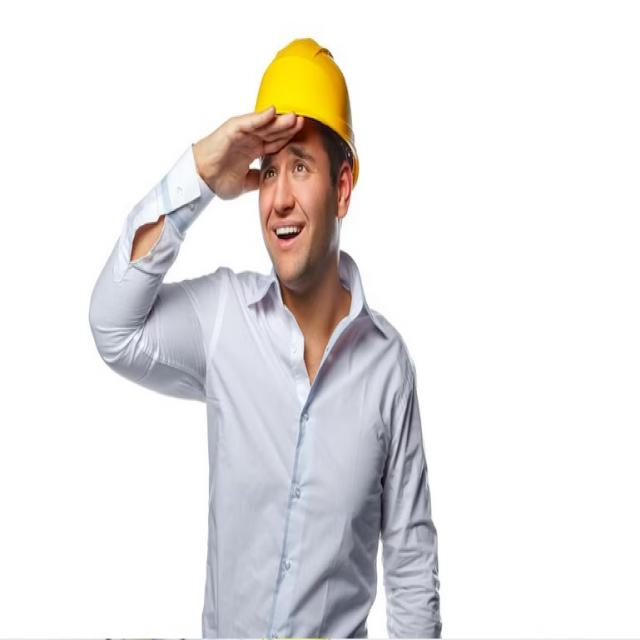helmet: (243, 21, 374, 179)
